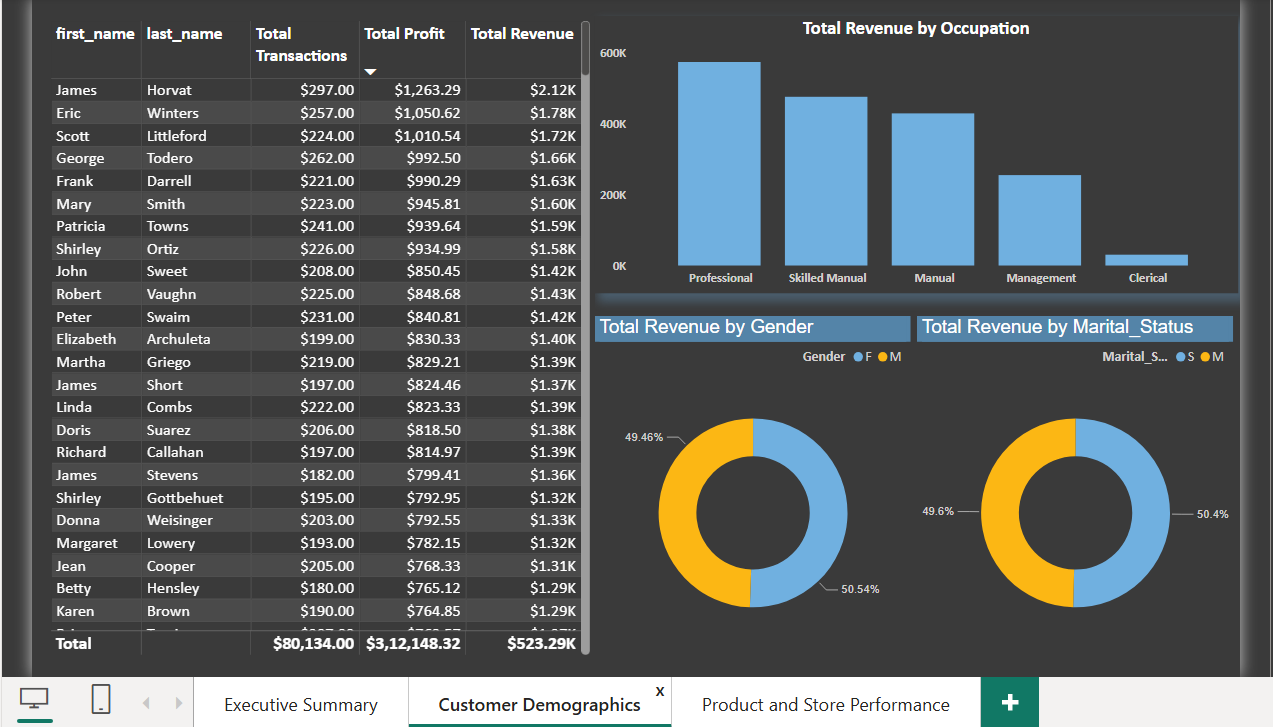

Layout of this report page (visuals, bound fields, positions):
{"tool":"powerbi","page":{"name":"Customer Demographics","canvas":[1280,720],"ordinal":1},"visuals":[{"type":"donutChart","title":"Total Revenue by Gender","fields":{"Category":["Customers.gender"],"Y":["Fact_Transaction.Total Revenue"]},"box":[596.5,337.2,335.6,364.2],"z":0},{"type":"donutChart","title":"Total Revenue by Marital_Status","fields":{"Category":["Customers.marital_status"],"Y":["Fact_Transaction.Total Revenue"]},"box":[938.5,337.2,335.6,364.2],"z":1000},{"type":"columnChart","title":"Total Revenue by Occupation","fields":{"Category":["Customers.occupation"],"Y":["Fact_Transaction.Total Revenue"]},"box":[596.5,19.1,682.4,294.3],"z":2000},{"type":"tableEx","fields":{"Values":["Customers.first_name","Customers.last_name","Fact_Transaction.Total Transactions","Fact_Transaction.Total Profit","Fact_Transaction.Total Revenue"]},"box":[14.3,19.1,582.2,682.4],"z":3000}]}

Visuals, with their boxes on the page's 1280x720 design canvas (x1, y1, x2, y2). These are canvas units, not pixel positions in the 1273x727 screenshot, which may show the page scaled, cropped or inside an application window:
"Total Revenue by Gender" donutChart: [x1=596, y1=337, x2=932, y2=701]
"Total Revenue by Marital_Status" donutChart: [x1=938, y1=337, x2=1274, y2=701]
"Total Revenue by Occupation" columnChart: [x1=596, y1=19, x2=1279, y2=313]
tableEx - Customers.first_name x Customers.last_name: [x1=14, y1=19, x2=596, y2=702]
